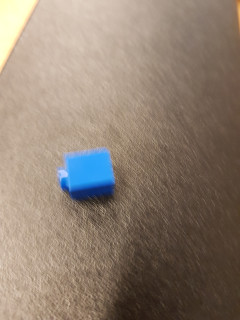1x1 blue: (54, 145, 120, 204)
